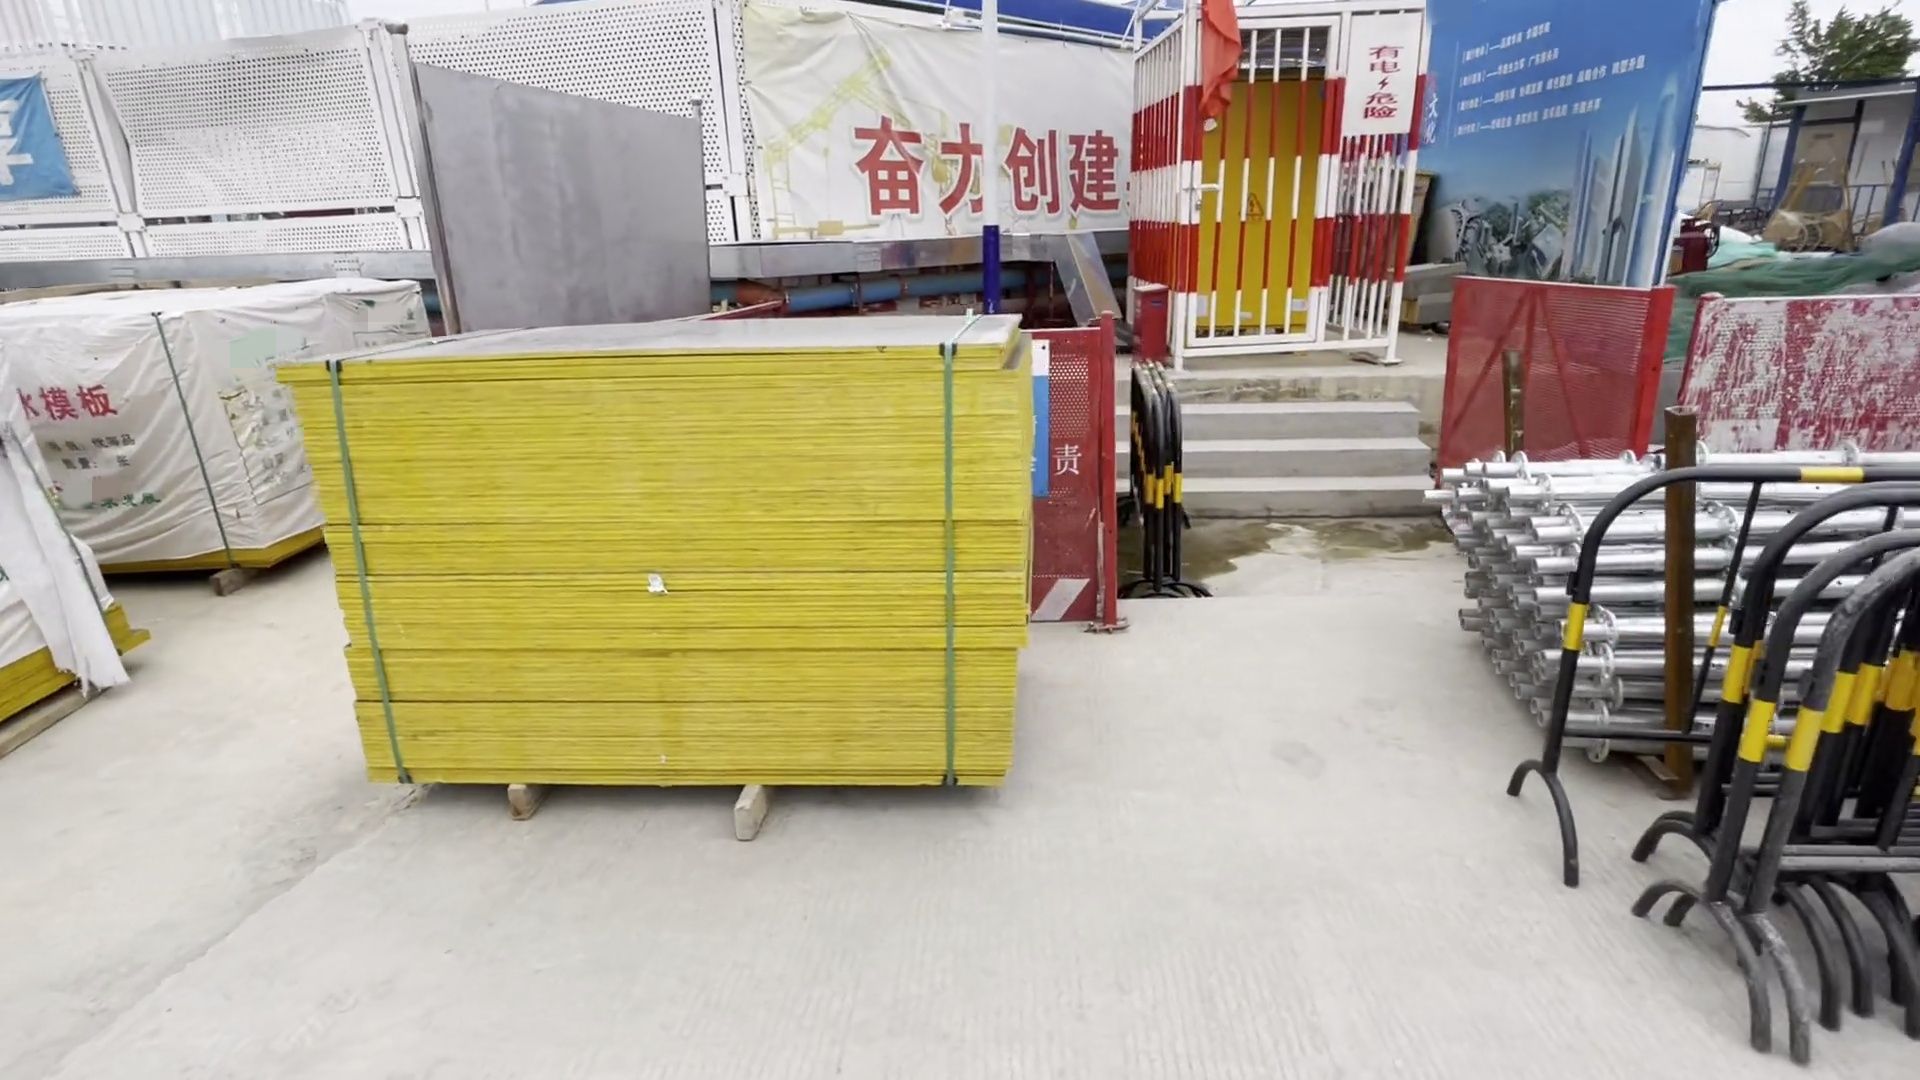board: (305, 301, 1015, 804), (45, 285, 377, 585)
ebox: (1195, 75, 1349, 334)
fence: (1458, 291, 1915, 468)
scaffold: (1447, 473, 1706, 753)
slogan: (848, 119, 1135, 222)
